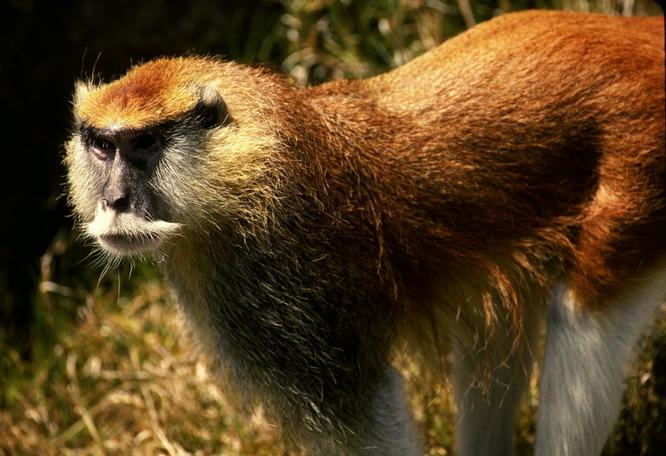monkey: (64, 10, 666, 456)
